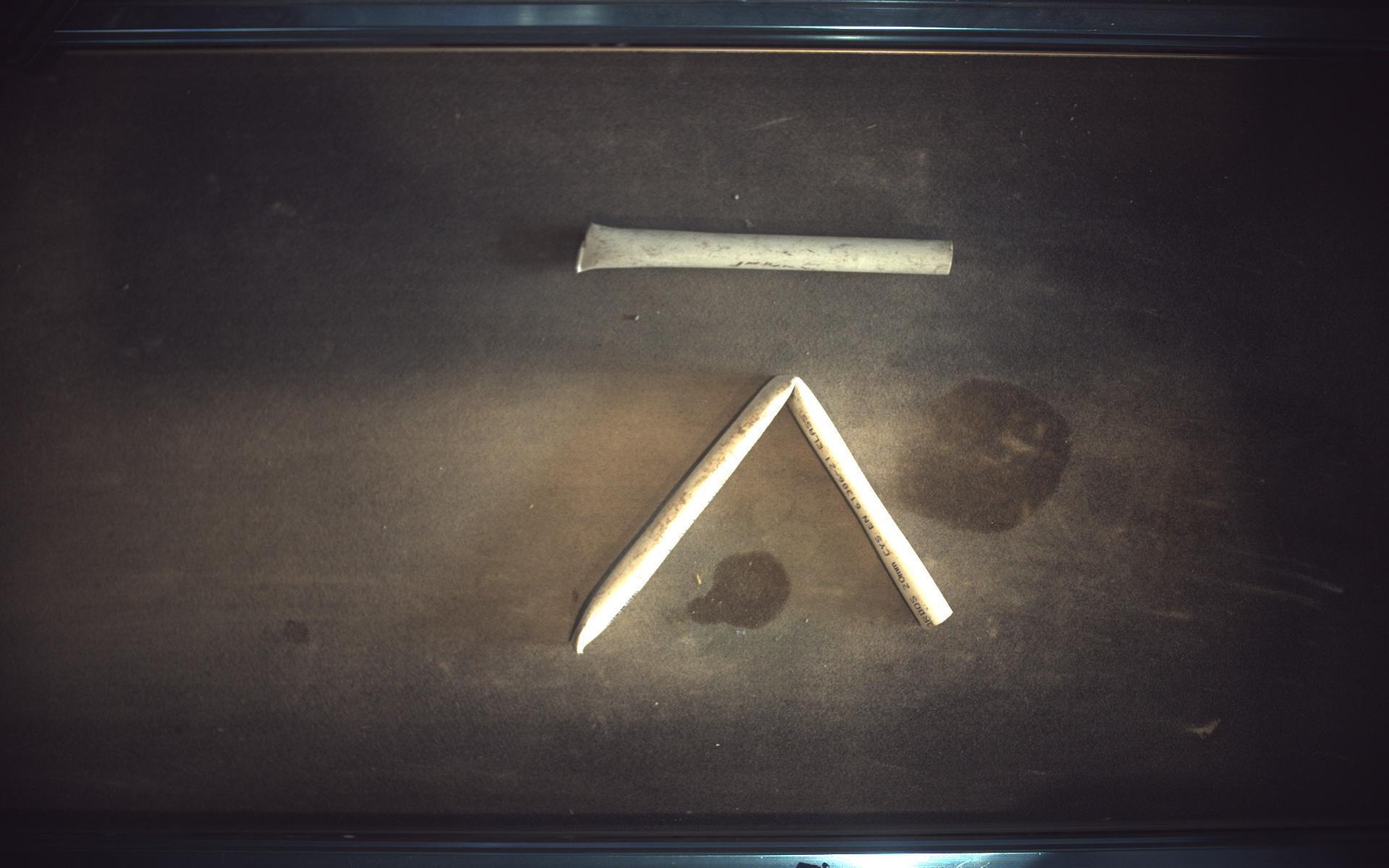pipes: (572, 375, 954, 655), (577, 223, 955, 274)
